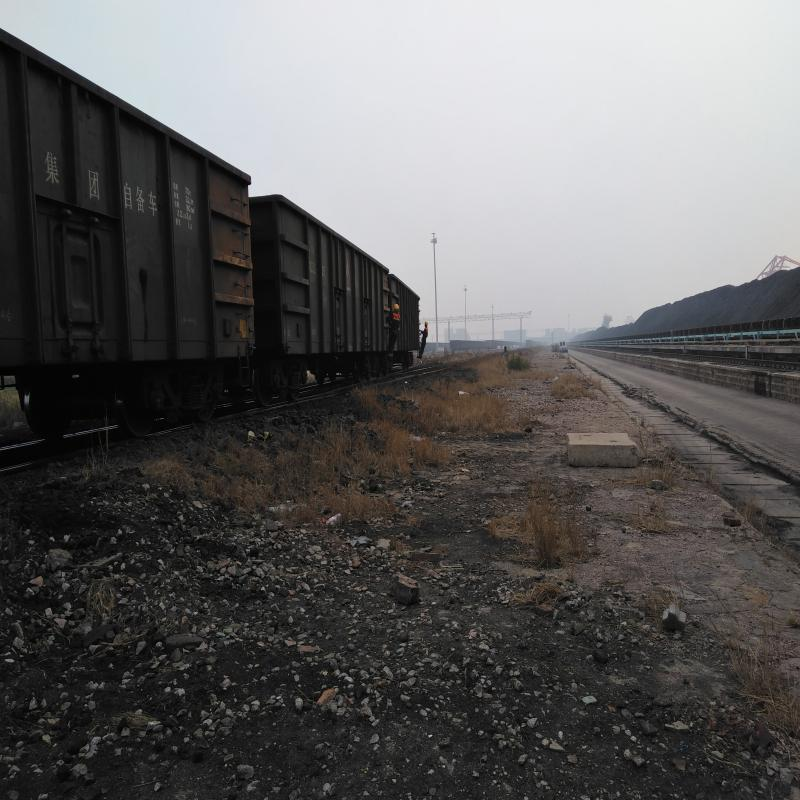train: (260, 196, 368, 395)
